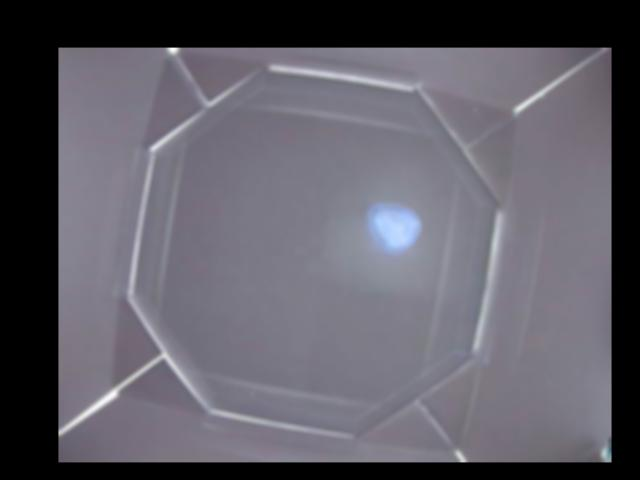Pebble: (366, 203, 422, 254)
